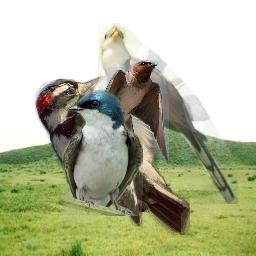Cuckoo: (98, 23, 239, 204)
Swallow: (62, 90, 143, 216), (85, 60, 169, 165)
Woodpecker: (35, 76, 190, 235)
